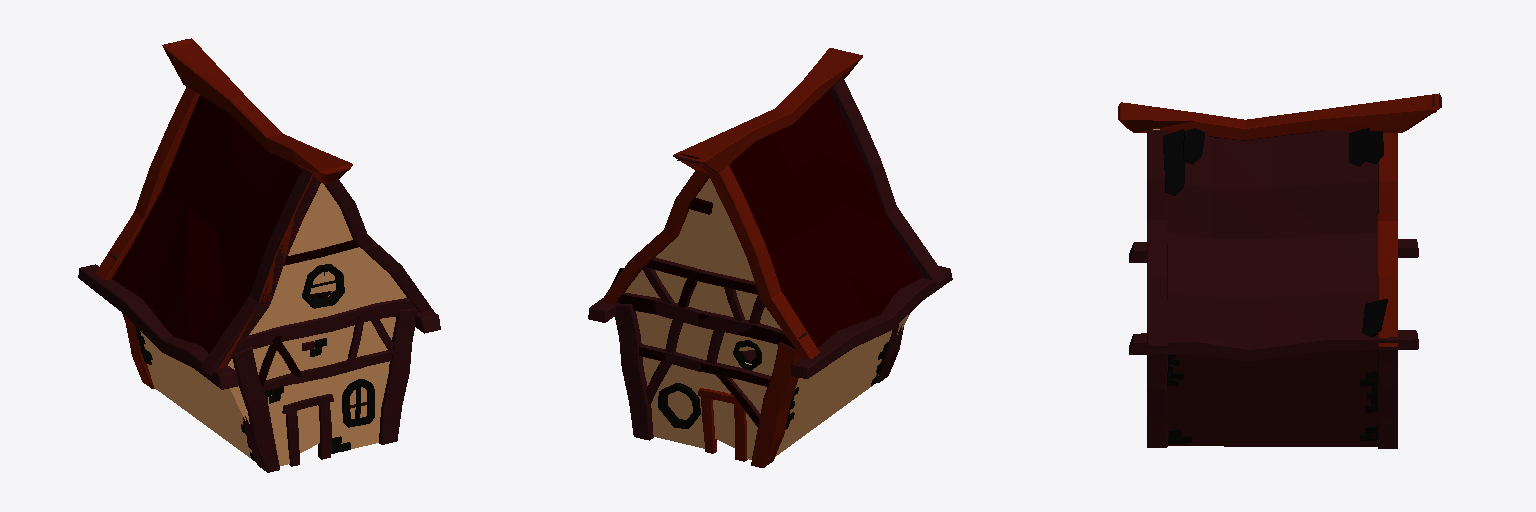
Rendered from polyhouse1.1.obj.
3 views of the same model, side by side, from view 1: azimuth 30°, elevation 25°; view 2: azimuth 150°, elevation 25°; view 3: azimuth 270°, elevation 25° (orthographic).
Visible parts, largest first — view 1: Cube; view 2: Cube; view 3: Cube.
Part boxes in pixels (x1,y1,x2,y2): Cube: (78, 38, 440, 472); Cube: (588, 48, 952, 467); Cube: (1118, 93, 1441, 448).
Bounding box in the file's own units: 5.38 × 7.16 × 6.69.